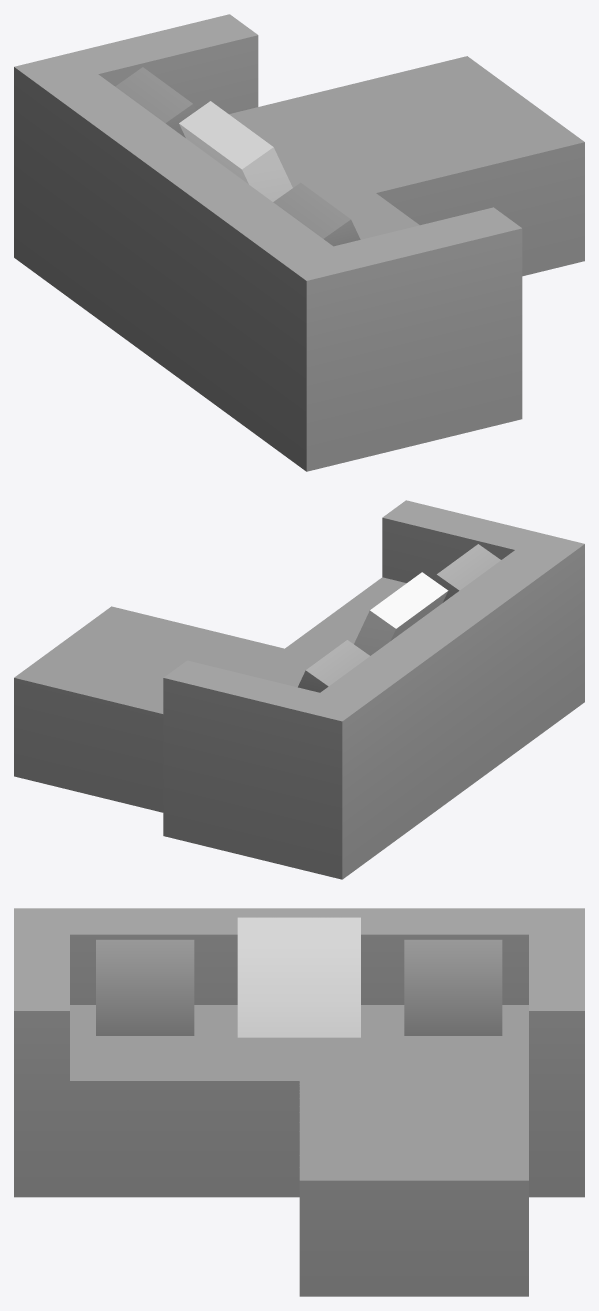
The model's file is sofa 2.fbx.
The picture shows the model from 3 angles, top to bottom: view 1: azimuth 30°, elevation 25°; view 2: azimuth 150°, elevation 25°; view 3: azimuth 270°, elevation 25°; orthographic projection. The views are drawn at different scales.
Parts seen in each view (by area): view 1: sofa_2; view 2: sofa_2; view 3: sofa_2.
Boxes of the visible parts, x1,y1,x2,y2 form: sofa_2: (14, 14, 584, 471); sofa_2: (14, 500, 584, 879); sofa_2: (14, 908, 584, 1296).
Bounding box in the file's own units: 217 × 108 × 259.
Materials: 1 (1 with a texture image).
